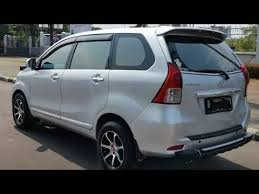mobil: (9, 27, 254, 171)
